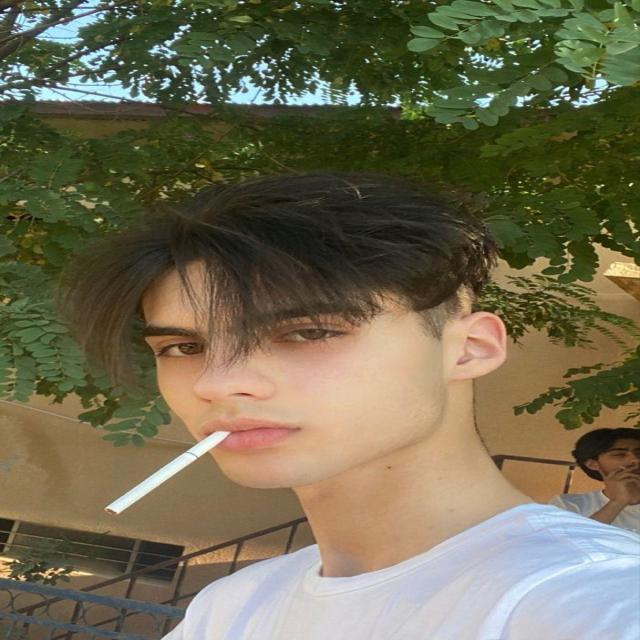cigarette: (90, 422, 262, 533)
